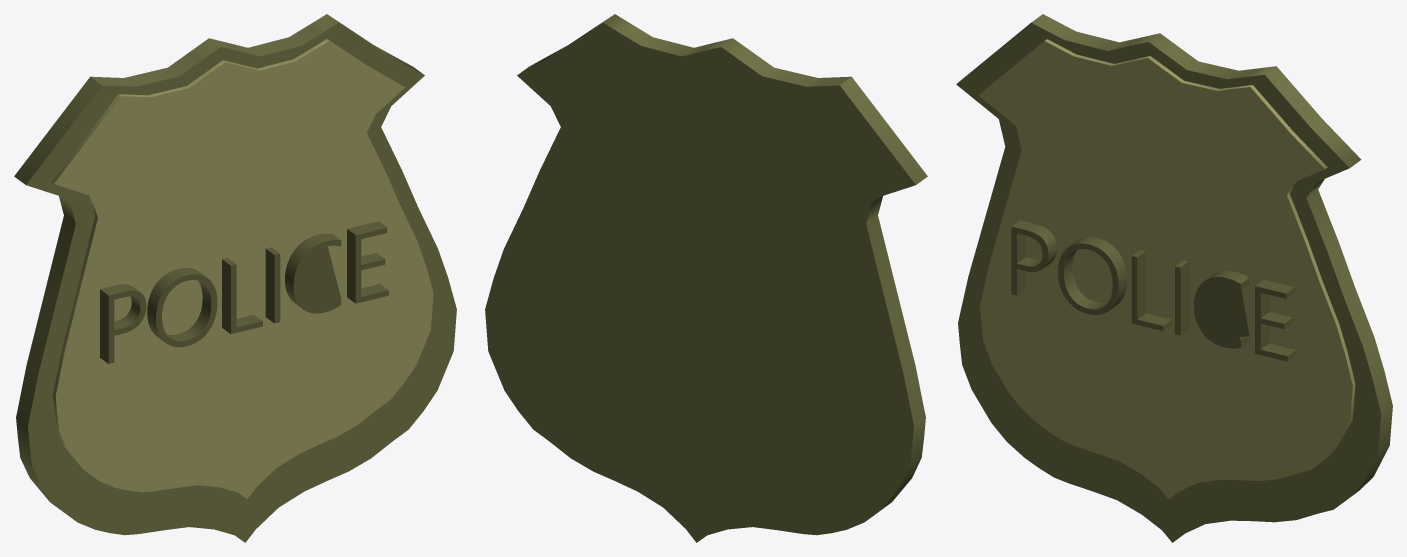
Rendered from placa.fbx.
The picture shows the model from 3 angles, left to right: view 1: azimuth 30°, elevation 25°; view 2: azimuth 150°, elevation 25°; view 3: azimuth 330°, elevation 25°; orthographic projection.
Parts seen in each view (by area): view 1: pCube3; view 2: pCube3; view 3: pCube3.
Part boxes in pixels (x1,y1,x2,y2): pCube3: (14,14,456,542); pCube3: (485,14,927,542); pCube3: (956,14,1392,542).
Bounding box in the file's own units: 3.12 × 3.47 × 0.3165.
